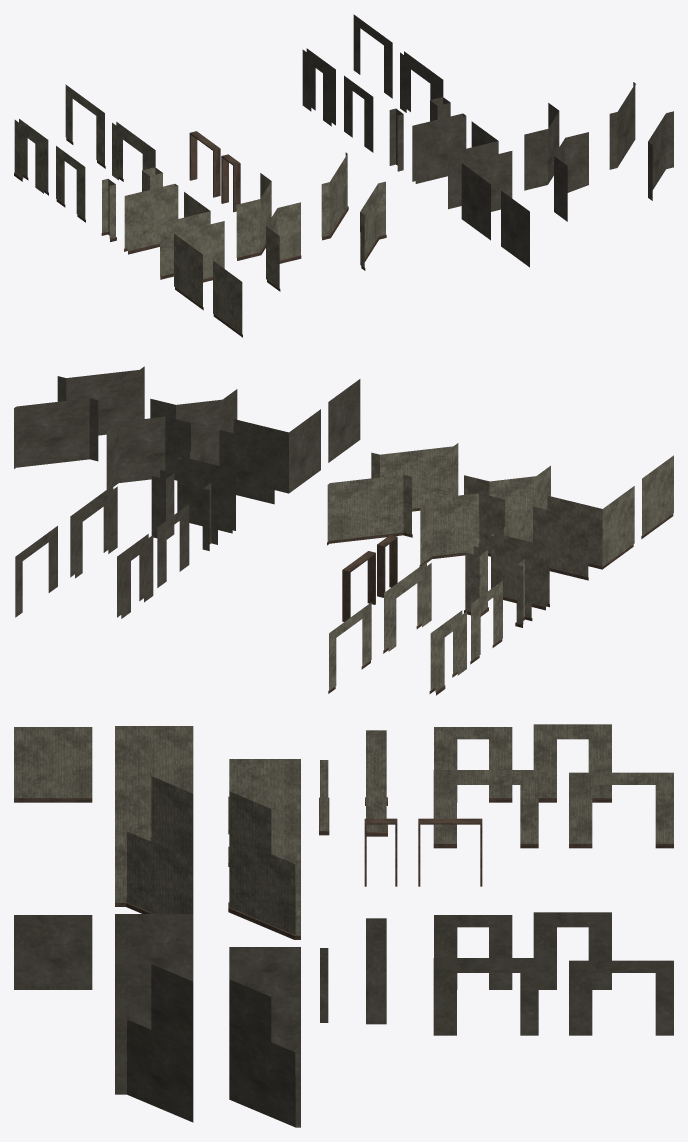
Rendered from backrooms.glb.
3 renders of one model, top to bottom at view 1: azimuth 30°, elevation 25°; view 2: azimuth 150°, elevation 25°; view 3: azimuth 270°, elevation 25°, orthographic. The views are drawn at different scales.
Parts seen in each view (by area): view 1: C-material (×13), F-material (×13), M-material (×2); view 2: C-material (×14), F-material (×14), M-material (×2); view 3: C-material (×13), F-material (×13), M-material (×2).
Part boxes in pixels (box(x1,y1,x2,y2)): C-material (×13): box(302, 14, 673, 267); F-material (×13): box(14, 84, 385, 334); M-material (×2): box(189, 131, 240, 212); C-material (×14): box(14, 366, 360, 618); F-material (×14): box(327, 443, 673, 691); M-material (×2): box(342, 535, 397, 621); C-material (×13): box(14, 912, 673, 1127); F-material (×13): box(14, 724, 673, 935); M-material (×2): box(364, 818, 482, 886).
Bounding box in the file's own units: 19.88 × 2.12 × 16.86.
3 materials, 3 textured.
